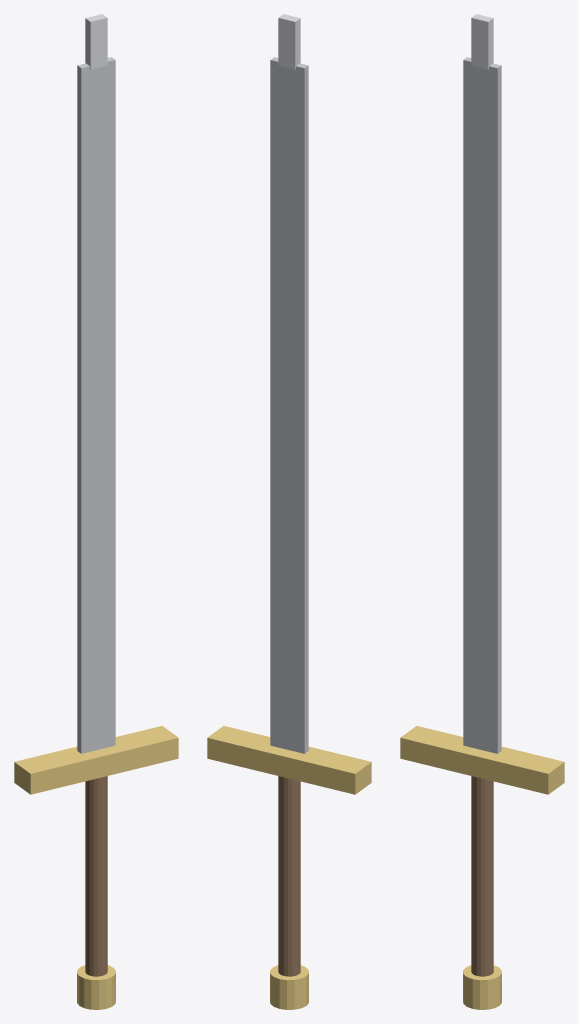
Rendered from greatsword.glb.
3 renders of one model, left to right at view 1: azimuth 30°, elevation 25°; view 2: azimuth 150°, elevation 25°; view 3: azimuth 330°, elevation 25°, orthographic.
Visible parts, largest first — view 1: greatsword2, greatsword1, greatsword0, greatsword4, greatsword3; view 2: greatsword2, greatsword1, greatsword0, greatsword4, greatsword3; view 3: greatsword2, greatsword1, greatsword0, greatsword4, greatsword3.
Part boxes in pixels (box(x1,y1,x2,y2)): greatsword2: box(77, 57, 115, 753); greatsword1: box(14, 726, 178, 794); greatsword0: box(85, 776, 107, 976); greatsword4: box(77, 965, 115, 1009); greatsword3: box(85, 14, 107, 69); greatsword2: box(270, 57, 308, 753); greatsword1: box(207, 726, 371, 794); greatsword0: box(278, 776, 300, 976); greatsword4: box(270, 965, 308, 1009); greatsword3: box(278, 14, 300, 69); greatsword2: box(463, 57, 501, 753); greatsword1: box(400, 726, 564, 794); greatsword0: box(471, 776, 493, 976); greatsword4: box(463, 965, 501, 1009); greatsword3: box(471, 14, 493, 69).
Bounding box in the file's own units: 0.26 × 1.65 × 0.06.
